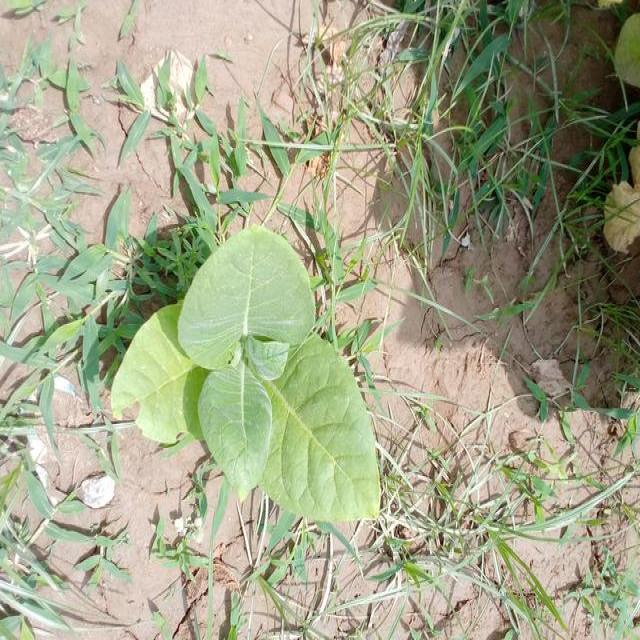crop: (114, 219, 380, 525)
